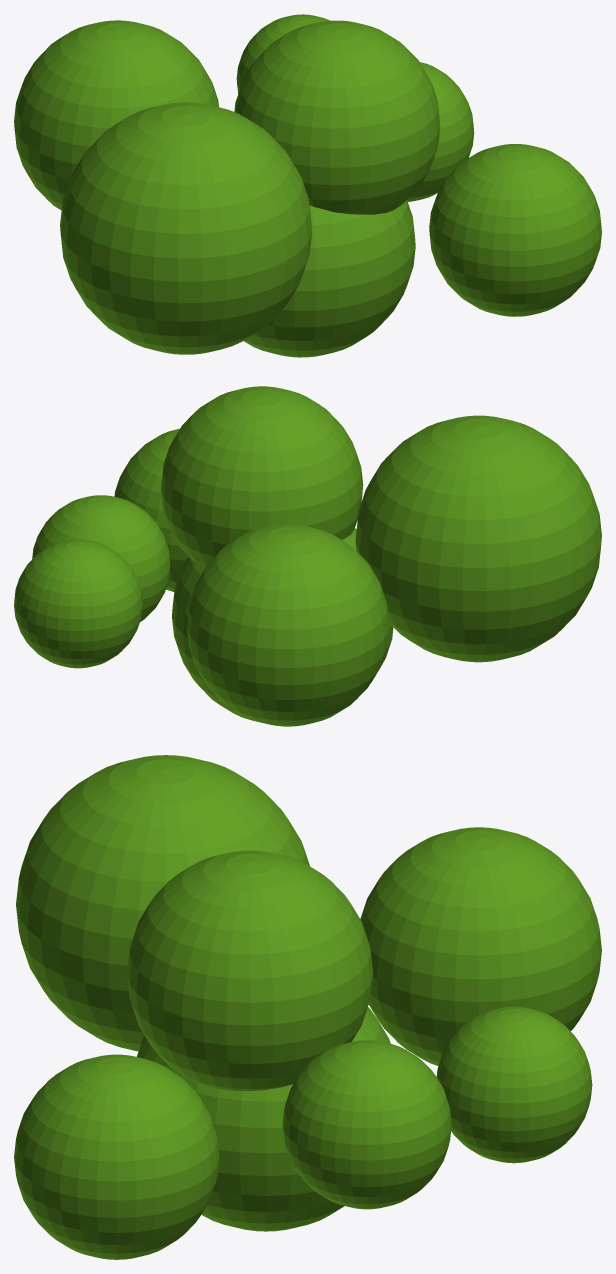
Rendered from tree.glb.
3 renders of one model, top to bottom at view 1: azimuth 30°, elevation 25°; view 2: azimuth 150°, elevation 25°; view 3: azimuth 270°, elevation 25°, orthographic. The views are drawn at different scales.
Parts seen in each view (by area): view 1: Sphere.002; view 2: Sphere.002; view 3: Sphere.002.
Boxes of the visible parts, bbox=[...] form: Sphere.002: bbox=[14, 14, 601, 357]; Sphere.002: bbox=[14, 386, 601, 726]; Sphere.002: bbox=[14, 755, 601, 1259].
Size of what is drawn, in the model's own units: 6.08 by 3.71 by 5.29.
